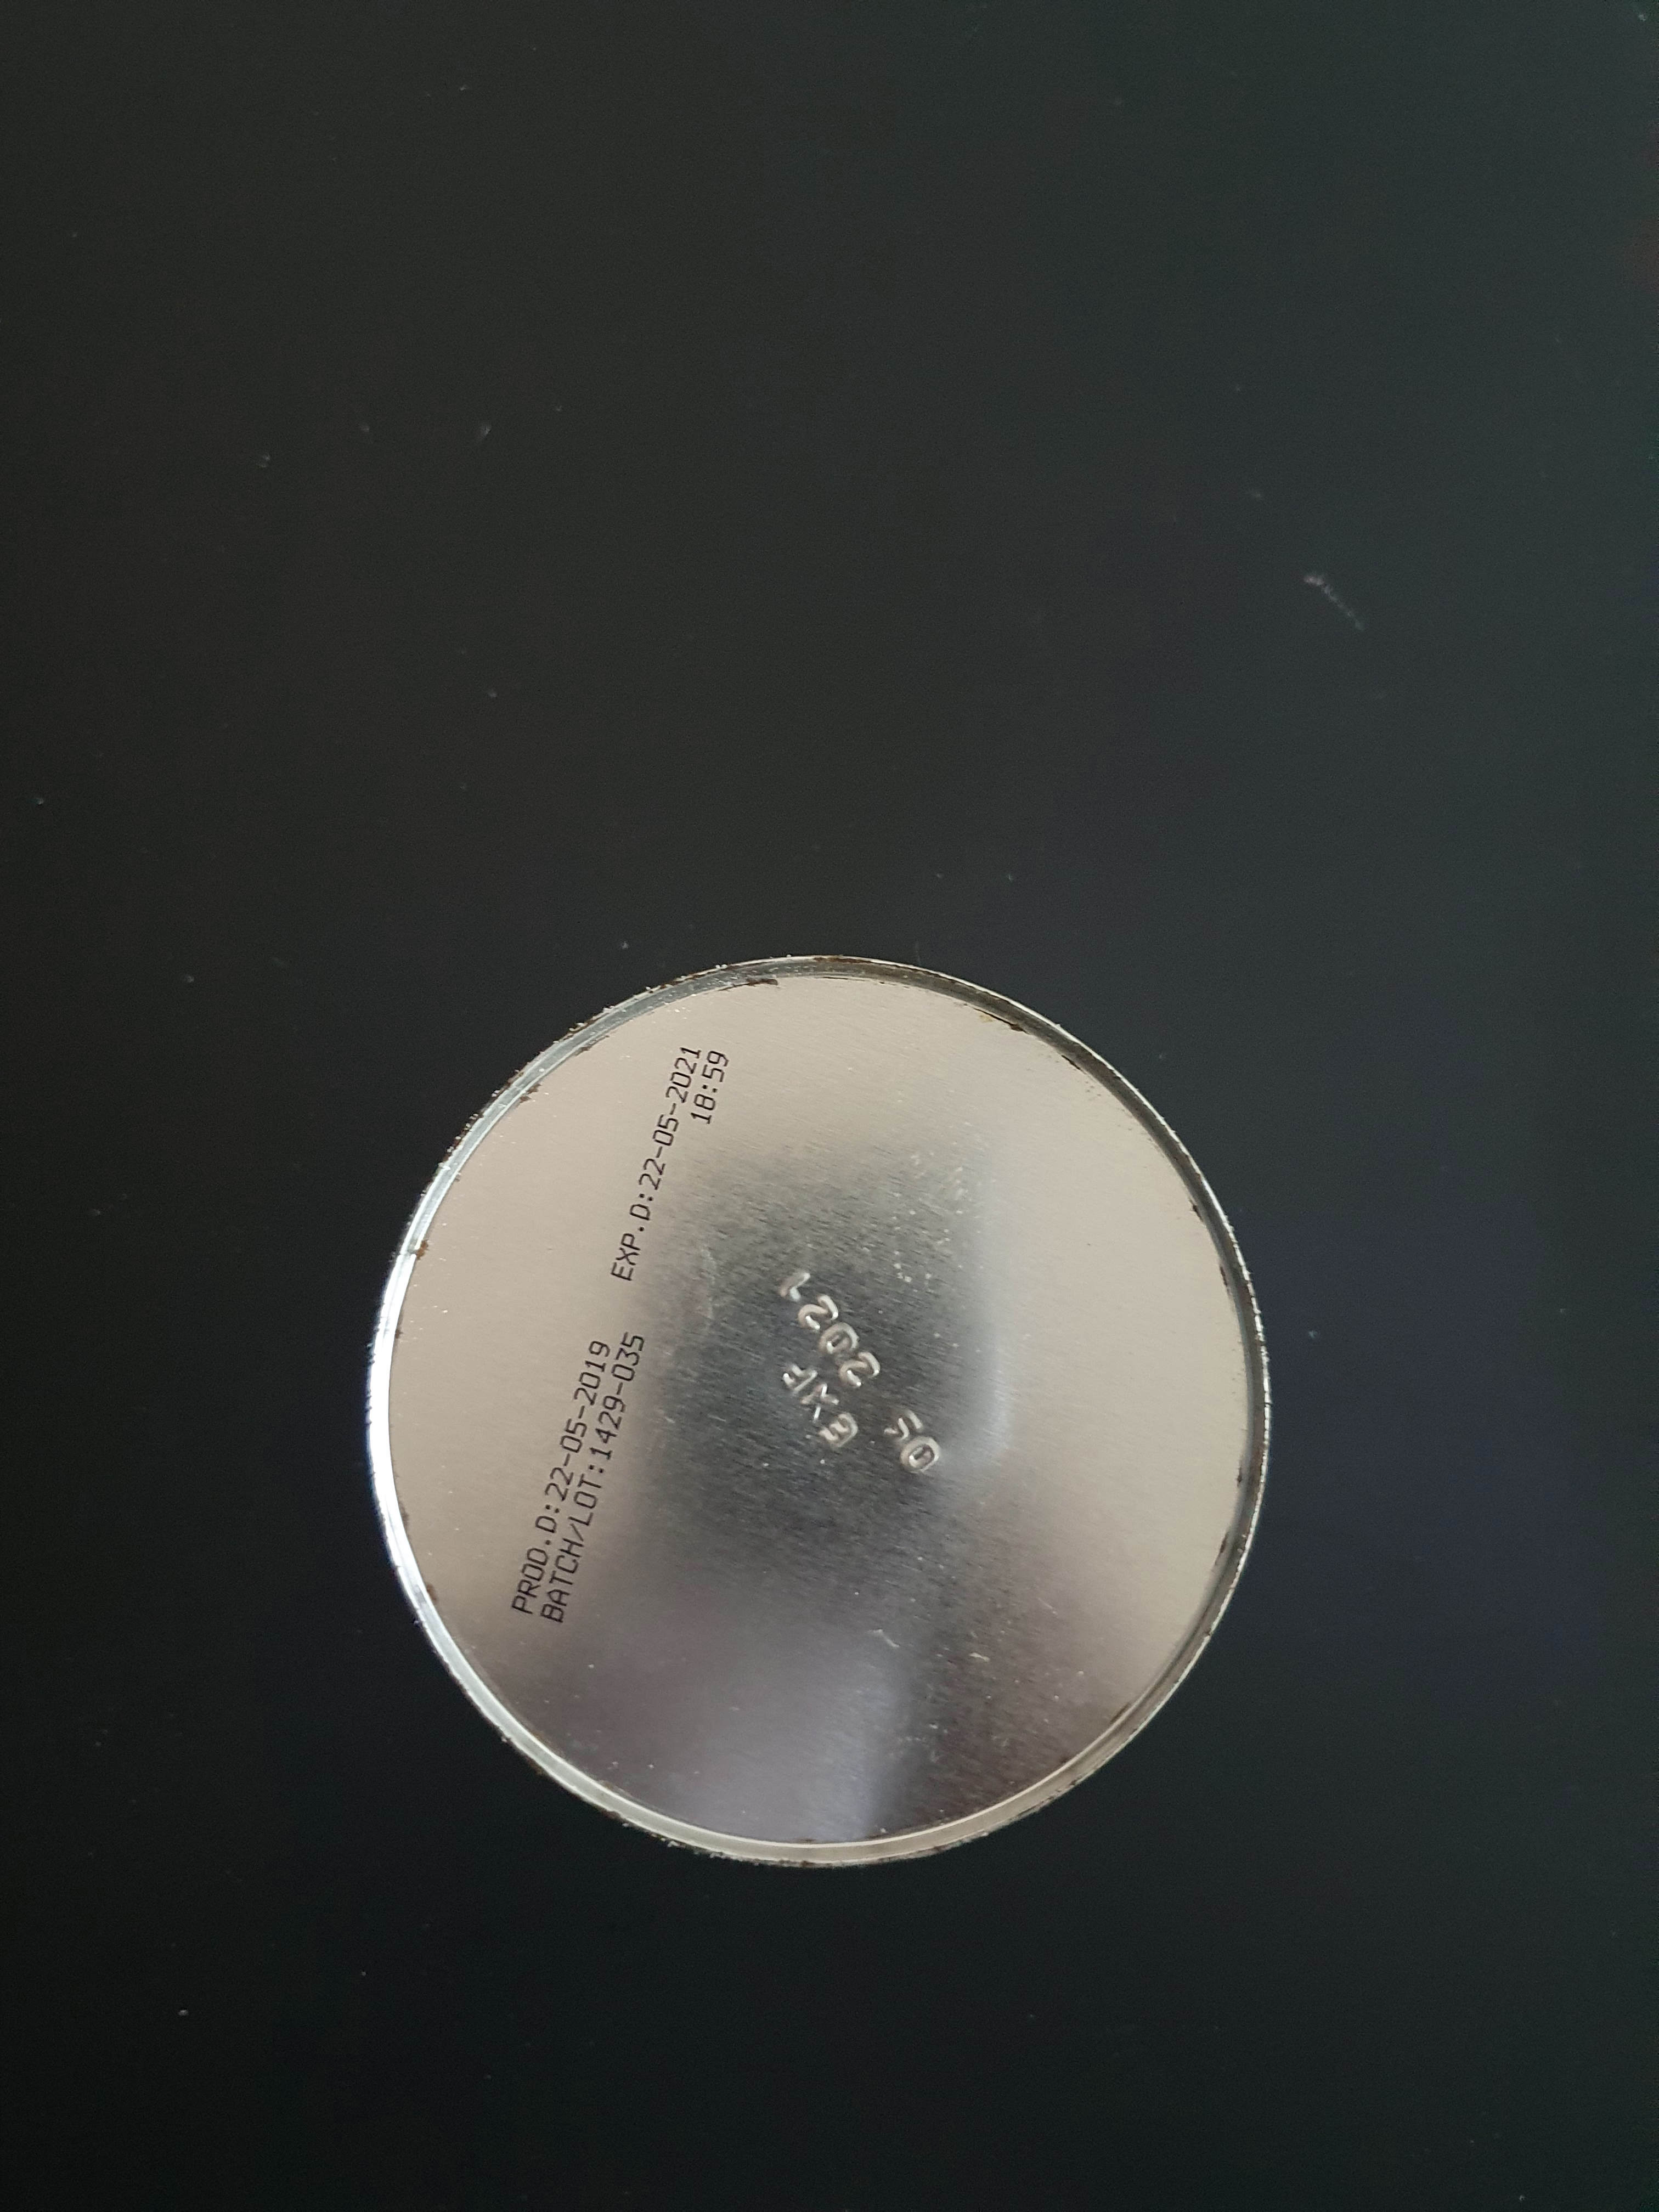metal: (286, 888, 1377, 1963)
